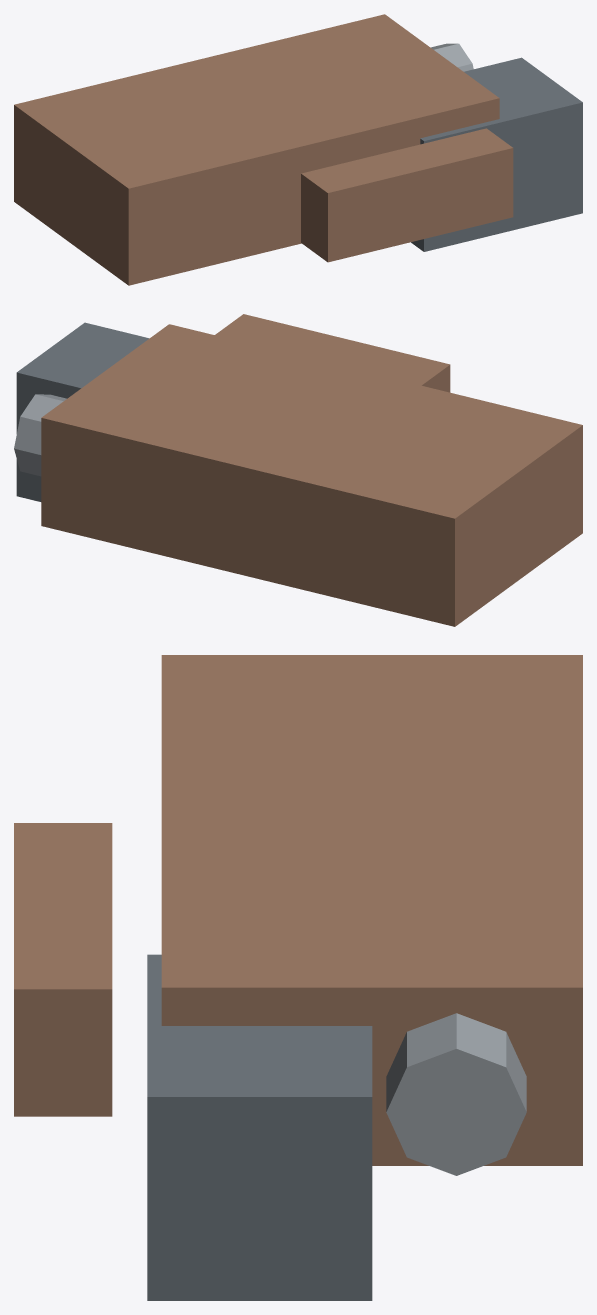
File: scrap.glb
3 renders of one model, top to bottom at view 1: azimuth 30°, elevation 25°; view 2: azimuth 150°, elevation 25°; view 3: azimuth 270°, elevation 25°, orthographic. The views are drawn at different scales.
Parts seen in each view (by area): view 1: 00_scrap_plate, 03_bent_piece, 01_scrap_piece, 02_rod; view 2: 00_scrap_plate, 03_bent_piece, 01_scrap_piece, 02_rod; view 3: 00_scrap_plate, 01_scrap_piece, 03_bent_piece, 02_rod.
Part boxes in pixels (bbox=[...]): 00_scrap_plate: bbox=[14, 14, 499, 285]; 03_bent_piece: bbox=[301, 128, 513, 262]; 01_scrap_piece: bbox=[411, 57, 582, 251]; 02_rod: bbox=[431, 43, 473, 71]; 00_scrap_plate: bbox=[41, 324, 582, 626]; 03_bent_piece: bbox=[215, 314, 450, 392]; 01_scrap_piece: bbox=[16, 322, 149, 501]; 02_rod: bbox=[14, 394, 66, 476]; 00_scrap_plate: bbox=[161, 655, 582, 1165]; 01_scrap_piece: bbox=[147, 954, 372, 1300]; 03_bent_piece: bbox=[14, 823, 112, 1116]; 02_rod: bbox=[386, 1013, 526, 1175].
Size of the model in its own units: 0.34 by 0.095 by 0.2025.
